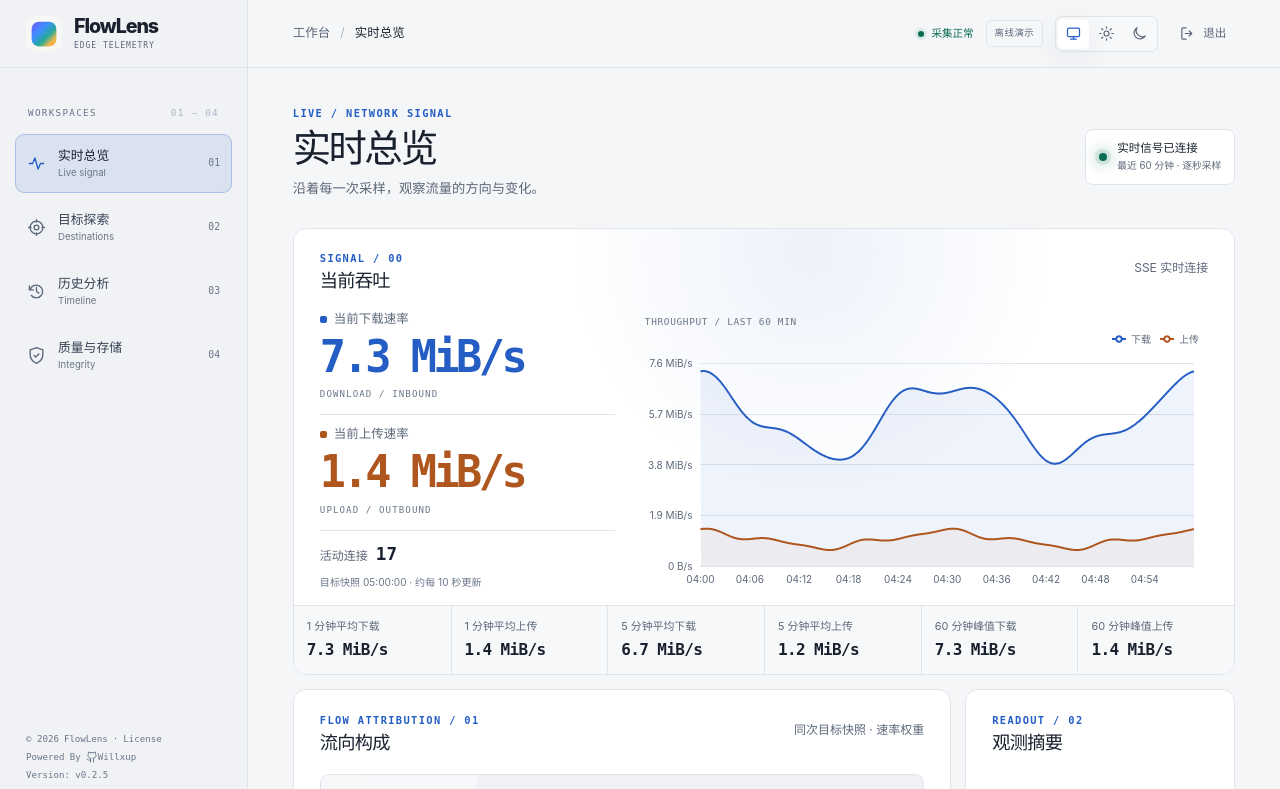
Test: DashboardPage › uses target snapshot global rate for approximate shares
Click the button "目标探索 Destinations 02" at (124, 227), box left=15, top=198, right=232, bottom=257
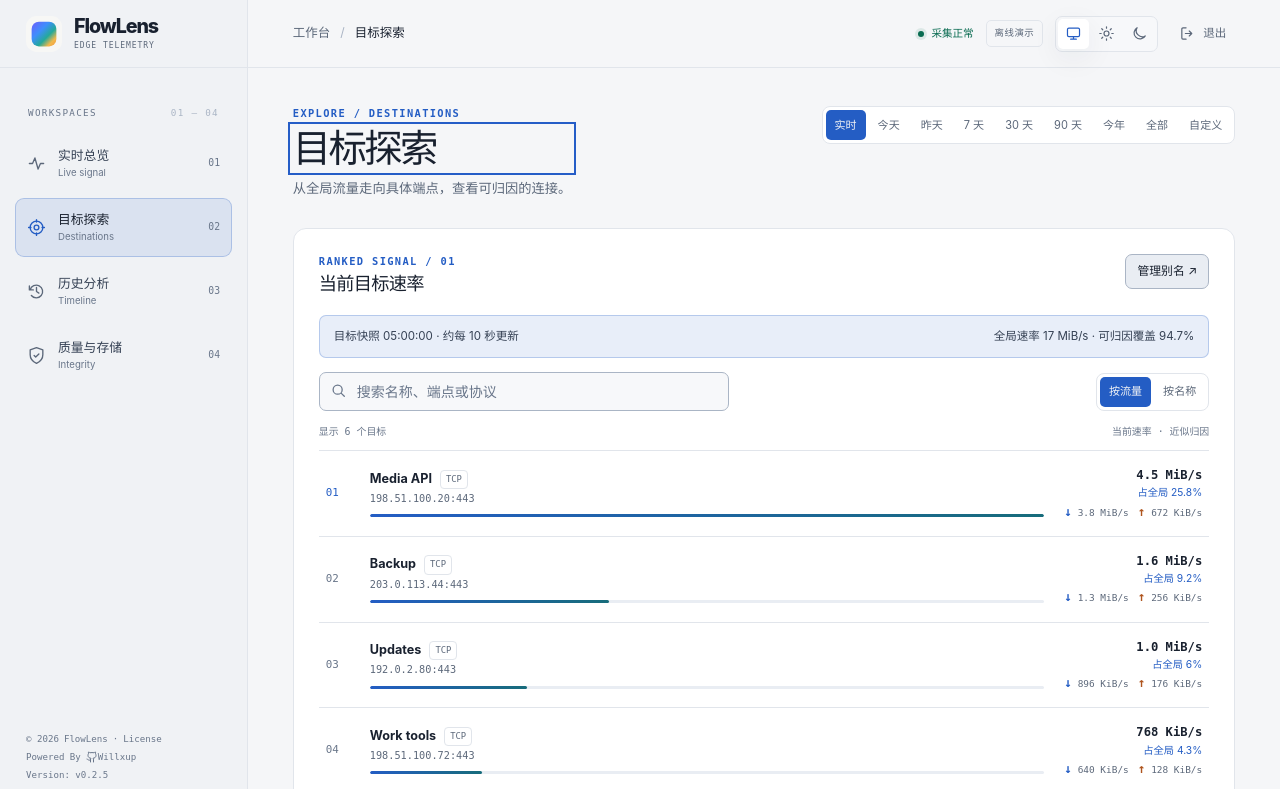
Check: the text "占全局 25.8%" is shown, box left=1138, top=485, right=1202, bottom=500
